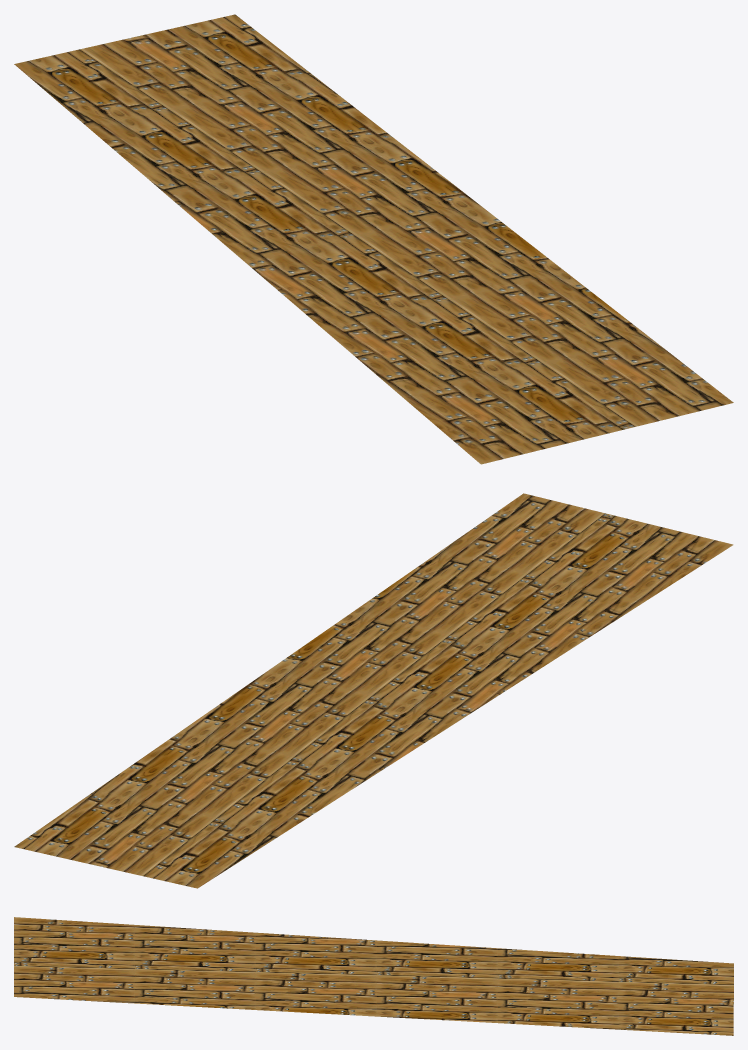
The model's file is Schiff_Sidewalk_1269.glb.
3 renders of one model, top to bottom at view 1: azimuth 30°, elevation 25°; view 2: azimuth 150°, elevation 25°; view 3: azimuth 270°, elevation 25°, orthographic. The views are drawn at different scales.
Visible parts, largest first — view 1: ship_sidewalk_linksShape; view 2: ship_sidewalk_linksShape; view 3: ship_sidewalk_linksShape.
Part boxes in pixels (left/top/right/bottom): ship_sidewalk_linksShape: left=14, top=14, right=733, bottom=464; ship_sidewalk_linksShape: left=14, top=493, right=733, bottom=888; ship_sidewalk_linksShape: left=14, top=917, right=733, bottom=1035.
Size of the model in its own units: 0.6127 by 0.061 by 1.9.
1 material, 1 textured.
